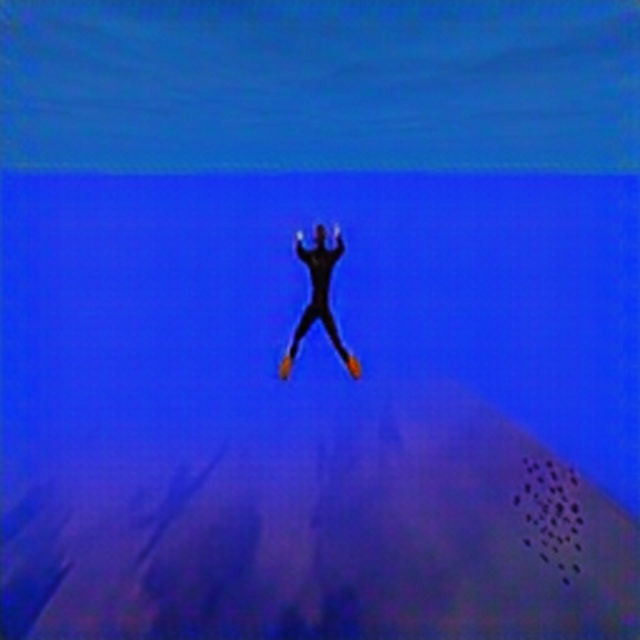diver: (278, 217, 363, 384)
